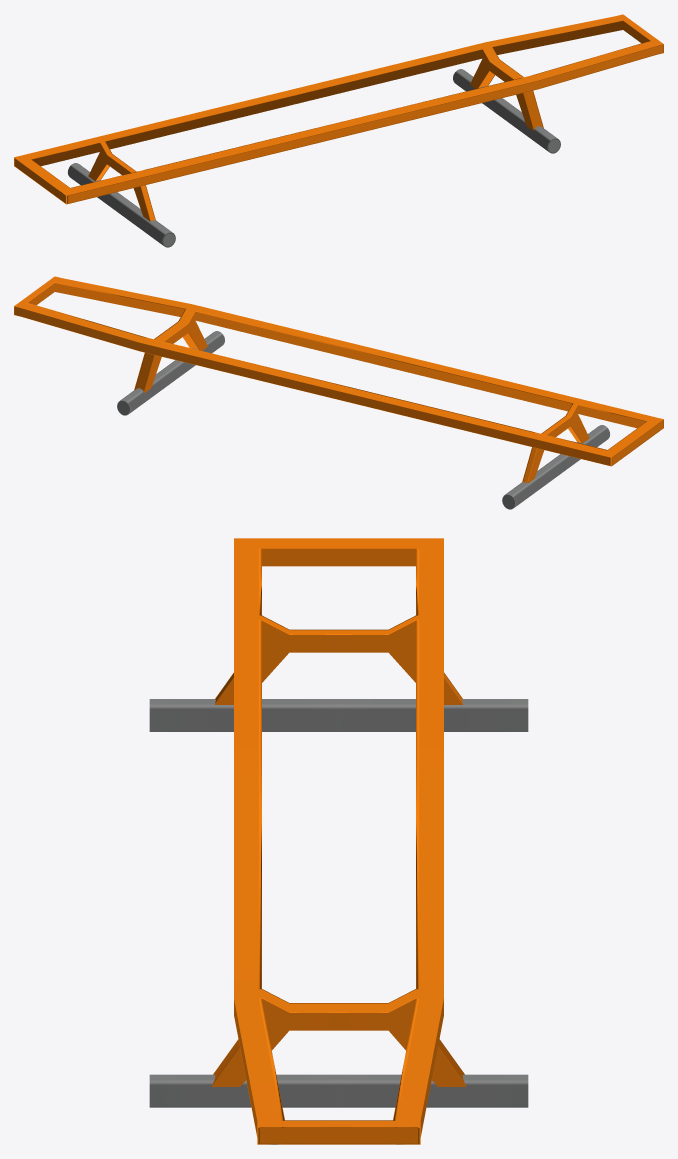
Rendered from ChassiCarro.fbx.
The picture shows the model from 3 angles, top to bottom: view 1: azimuth 30°, elevation 25°; view 2: azimuth 150°, elevation 25°; view 3: azimuth 270°, elevation 25°; orthographic projection. The views are drawn at different scales.
Visible parts, largest first — view 1: ChassiCarro; view 2: ChassiCarro; view 3: ChassiCarro.
Boxes of the visible parts, <box> form: ChassiCarro: <box>14,14,663,247</box>; ChassiCarro: <box>14,276,663,509</box>; ChassiCarro: <box>149,538,528,1144</box>.
Size of the model in its own units: 332 by 29.6 by 90.19.
